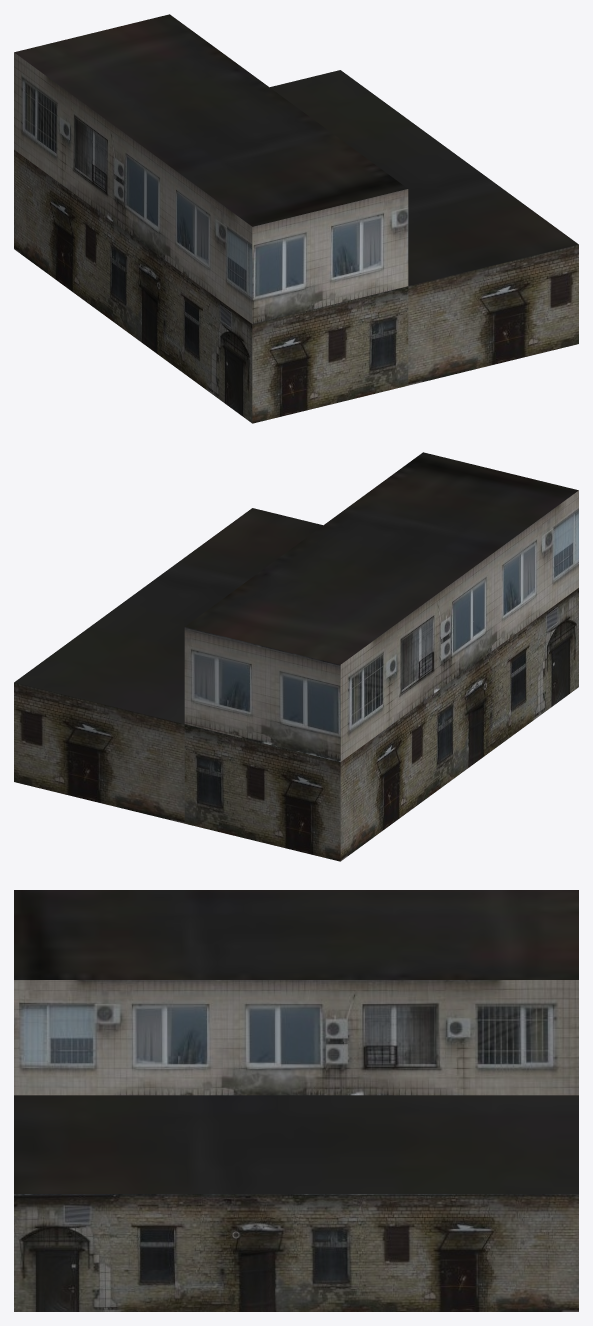
The model's file is Building_14.fbx.
3 renders of one model, top to bottom at view 1: azimuth 30°, elevation 25°; view 2: azimuth 150°, elevation 25°; view 3: azimuth 270°, elevation 25°, orthographic. The views are drawn at different scales.
Visible parts, largest first — view 1: Cube.003; view 2: Cube.003; view 3: Cube.003.
Boxes of the visible parts, <box> form: Cube.003: <box>14,14,578,423</box>; Cube.003: <box>14,452,578,861</box>; Cube.003: <box>14,890,578,1311</box>.
Size of the model in its own units: 3056 by 2416 by 1392.
1 material, 1 textured.
